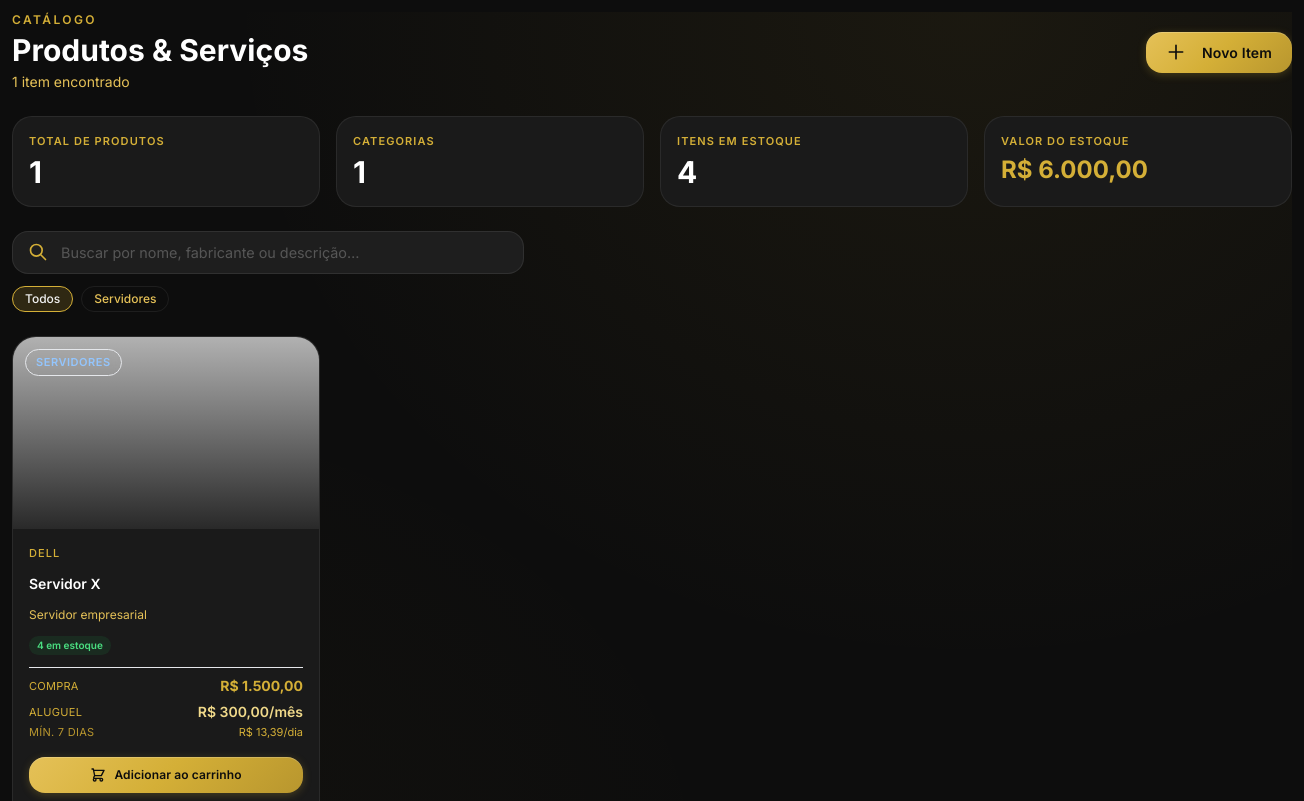
Test: Catalog Items UI › shows an empty state when a category filter returns no items
Expected: the heading "Servidor X" is shown, 29,575 -> 100,592
Click the button "Servidores" at point(125, 299), box 81,286 -> 169,312
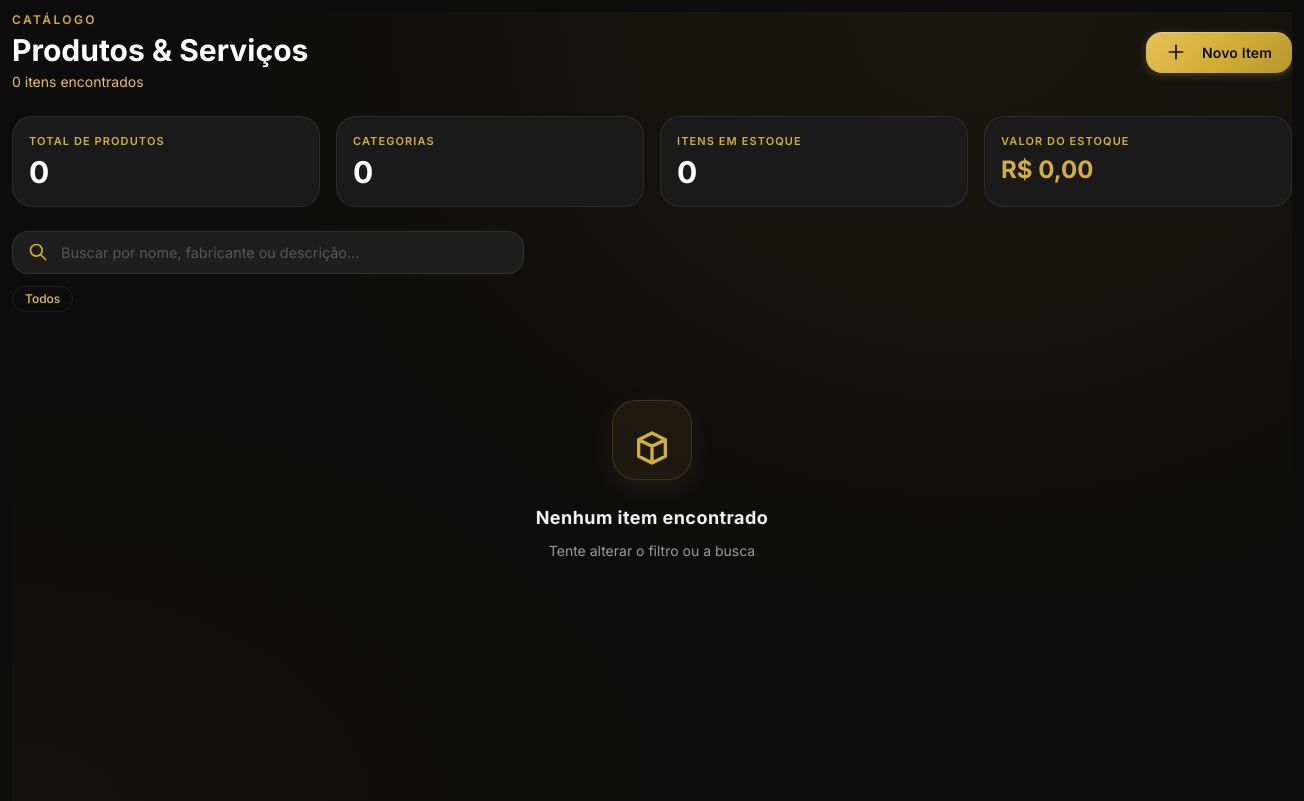
Now the heading "Nenhum item encontrado" is shown, box 536,504 -> 768,532
Now the text "Tente alterar o filtro ou a busca" is shown, box 549,540 -> 755,563
